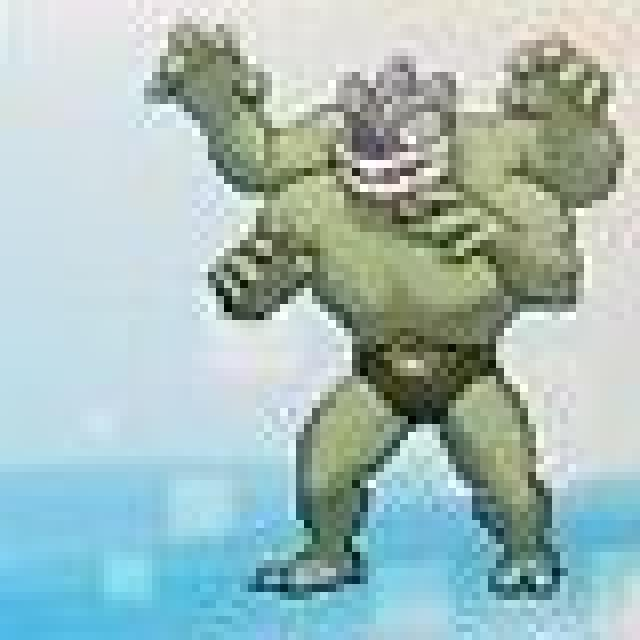Machamp: (202, 56, 586, 597)
